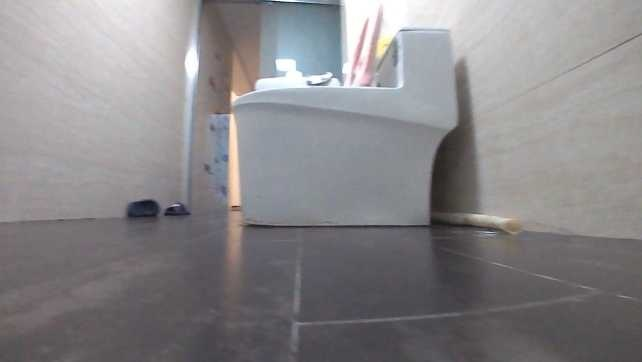toilet: (229, 27, 460, 227)
